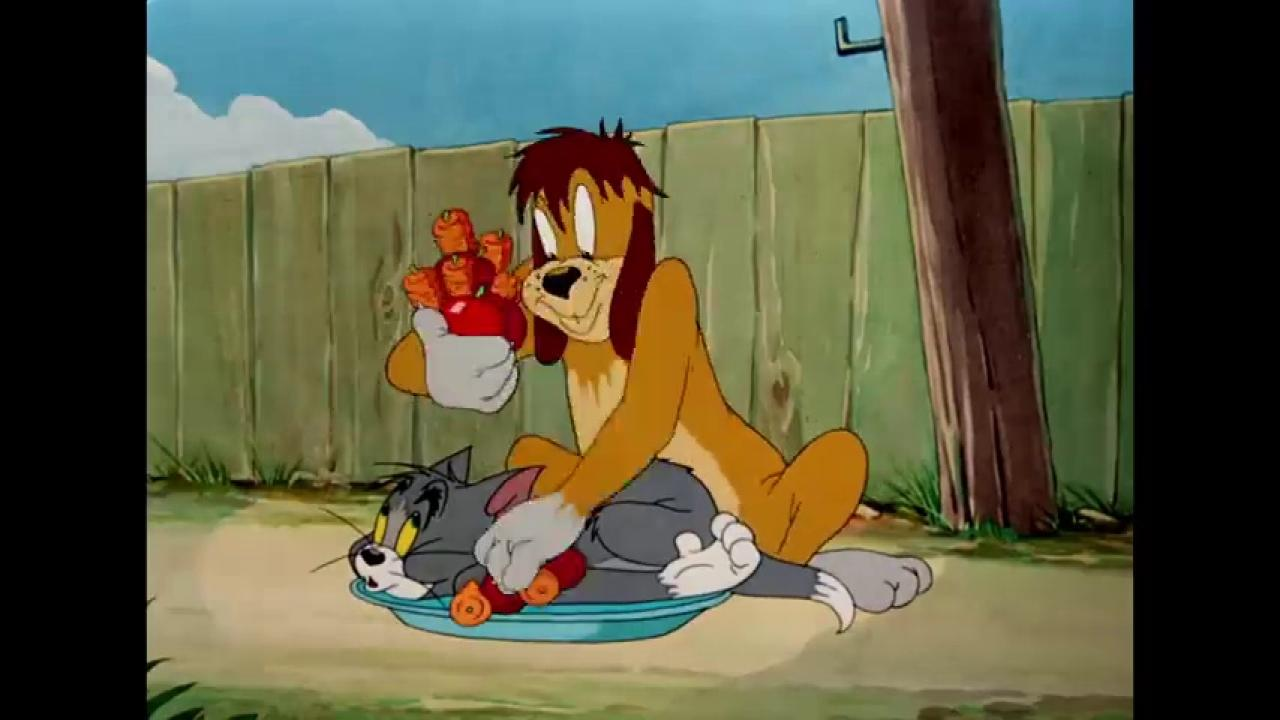Tom: (346, 442, 856, 636)
